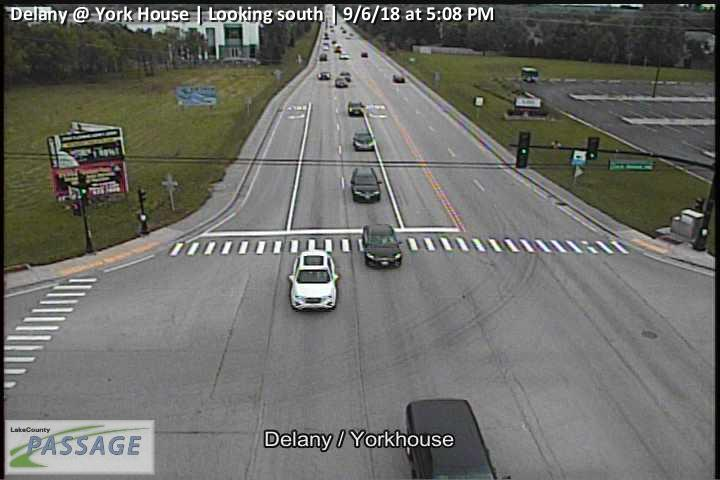SUV: (406, 399, 510, 480), (289, 248, 339, 311), (362, 223, 402, 269), (351, 166, 382, 202)
Sedan: (353, 129, 376, 150), (349, 100, 364, 115), (336, 77, 348, 87), (340, 71, 352, 81), (393, 73, 405, 83), (318, 71, 331, 79)
